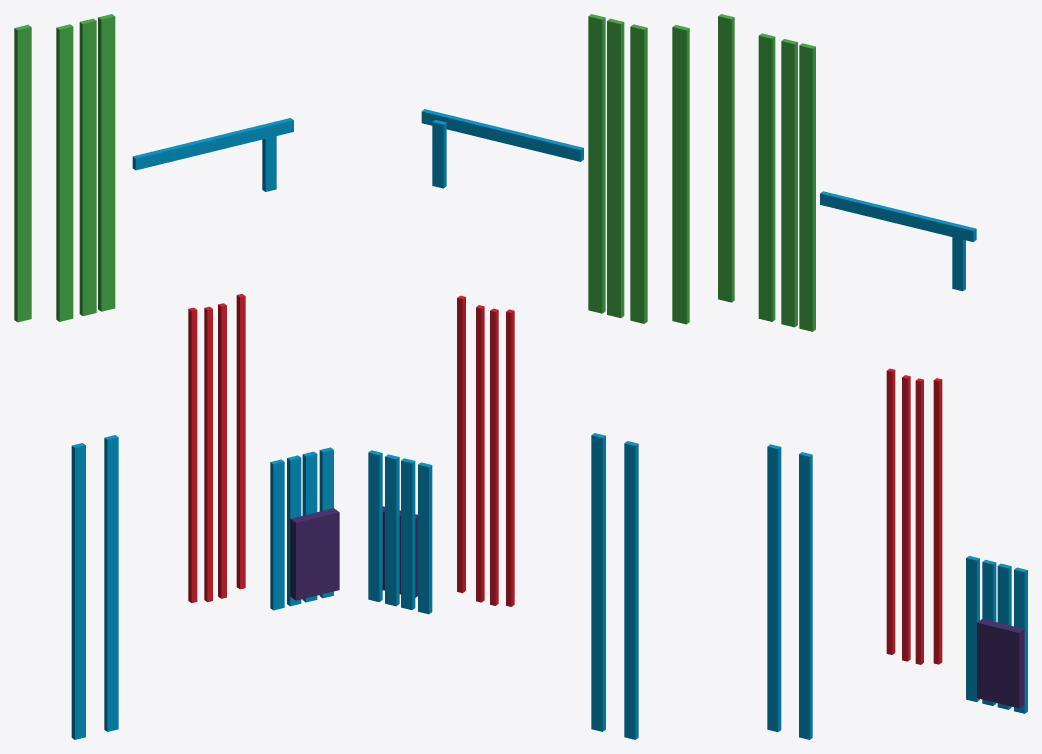
File: tinker.obj
3 views of the same model, side by side, from view 1: azimuth 30°, elevation 25°; view 2: azimuth 150°, elevation 25°; view 3: azimuth 330°, elevation 25° (orthographic). The views are drawn at different scales.
Visible parts, largest first — view 1: group_0_4634441, group_0_40919, group_0_15277357, group_0_4796018; view 2: group_0_4634441, group_0_40919, group_0_15277357, group_0_4796018; view 3: group_0_4634441, group_0_40919, group_0_15277357, group_0_4796018.
Boxes of the visible parts, box(x1,y1,x2,y2) form: group_0_4634441: box(14, 14, 115, 322); group_0_40919: box(71, 118, 333, 739); group_0_15277357: box(188, 294, 245, 602); group_0_4796018: box(290, 508, 339, 600); group_0_4634441: box(588, 14, 689, 324); group_0_40919: box(368, 109, 638, 739); group_0_15277357: box(457, 295, 514, 606); group_0_4796018: box(382, 506, 417, 597); group_0_4634441: box(718, 14, 815, 331); group_0_40919: box(767, 191, 1027, 739); group_0_15277357: box(886, 368, 942, 664); group_0_4796018: box(977, 618, 1024, 708).
Bounding box in the file's own units: 68 × 148 × 3.6.
